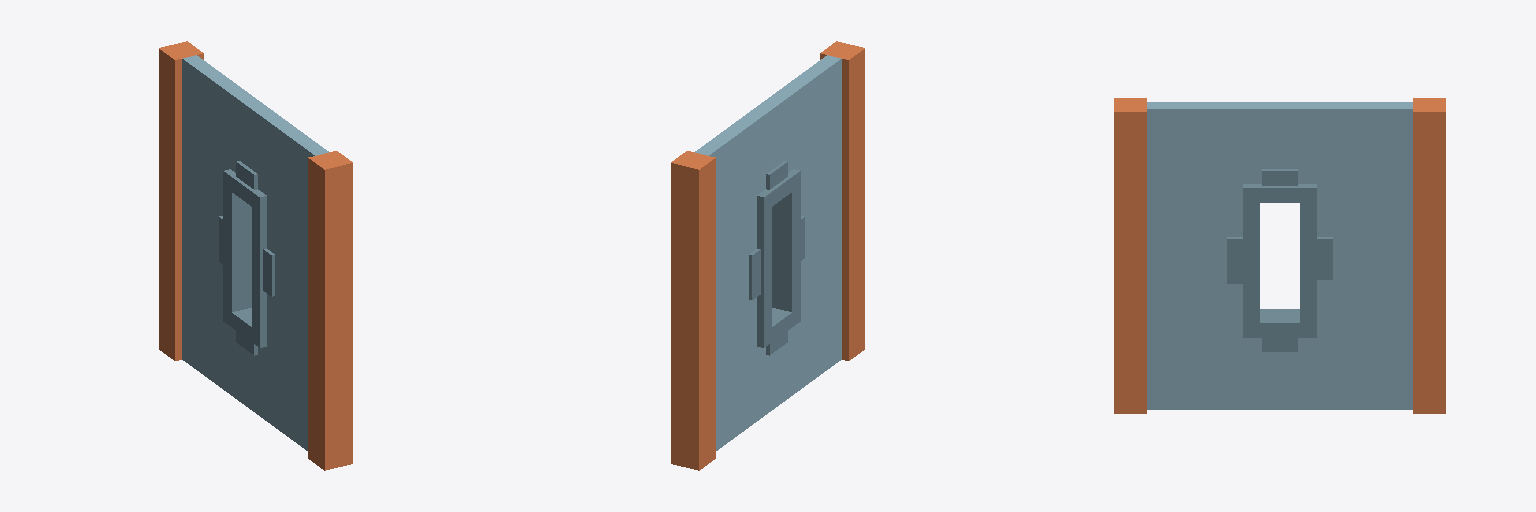
The model's file is wallWindowStone.obj.
3 views of the same model, side by side, from view 1: azimuth 30°, elevation 25°; view 2: azimuth 150°, elevation 25°; view 3: azimuth 270°, elevation 25° (orthographic).
Parts seen in each view (by area): view 1: wallWindowStone; view 2: wallWindowStone; view 3: wallWindowStone.
Boxes of the visible parts, x1,y1,x2,y2 form: wallWindowStone: [159, 41, 352, 470]; wallWindowStone: [671, 41, 864, 470]; wallWindowStone: [1114, 98, 1445, 413].
Size of the model in its own units: 0.1 by 1 by 1.